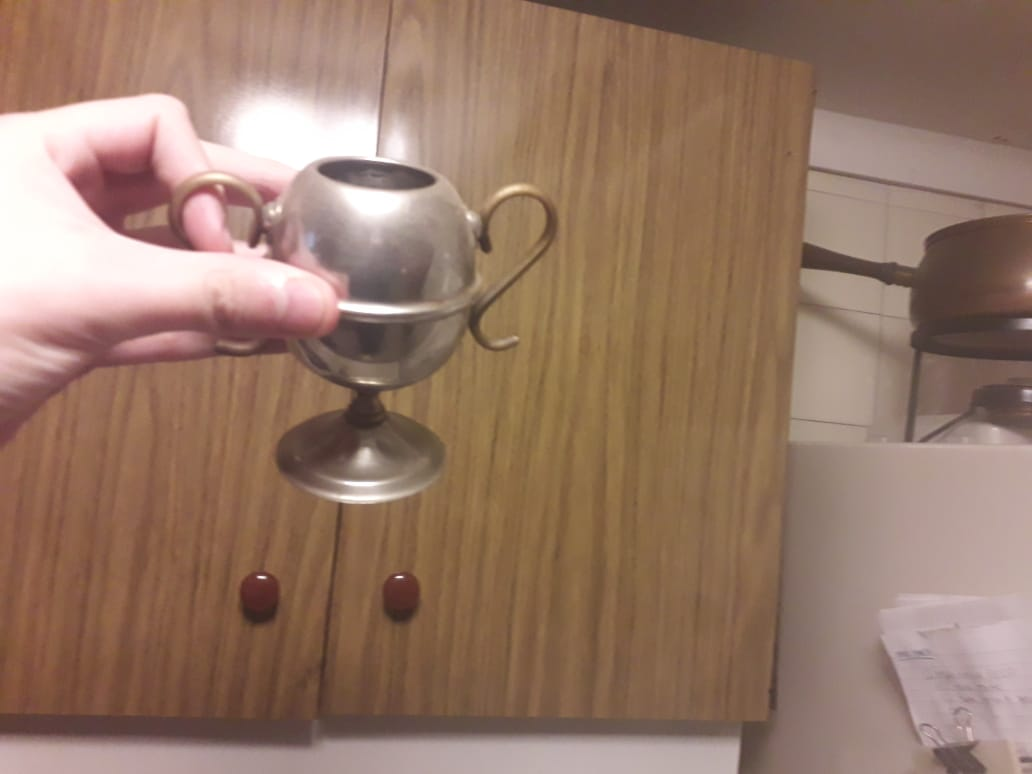mate: (168, 151, 559, 506)
metal: (166, 149, 557, 504)
